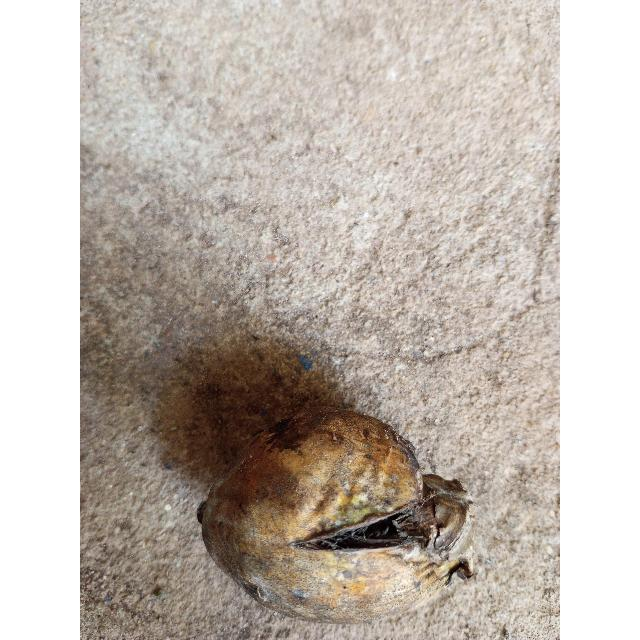damaged: (197, 407, 473, 622)
